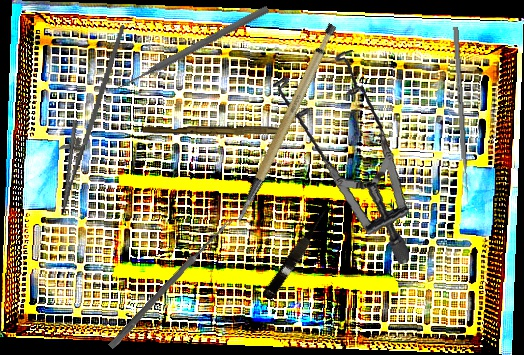Micro Scissor: (261, 203, 335, 303)
Needle Holder: (46, 17, 126, 215)
Pusher: (110, 3, 271, 96), (452, 26, 471, 206)
Scalpel Handle: (206, 20, 362, 223), (142, 123, 289, 137)
Speculum: (253, 41, 433, 265)
Surgical Spoon: (108, 215, 234, 351)
